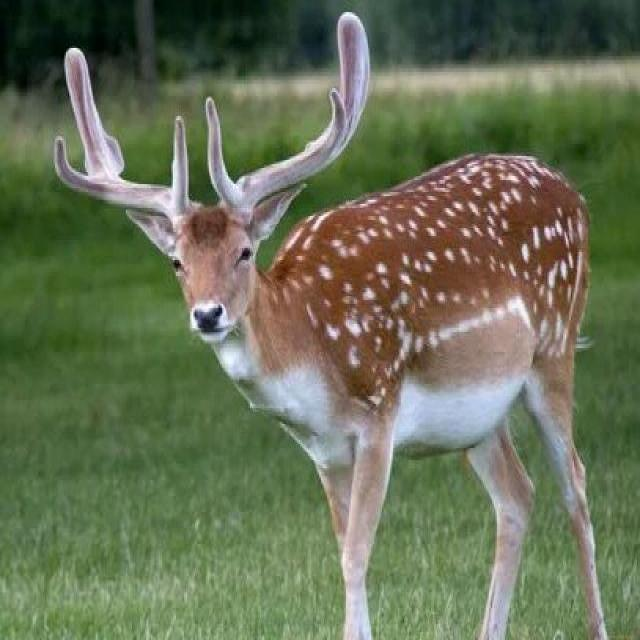deer: (81, 48, 640, 571)
